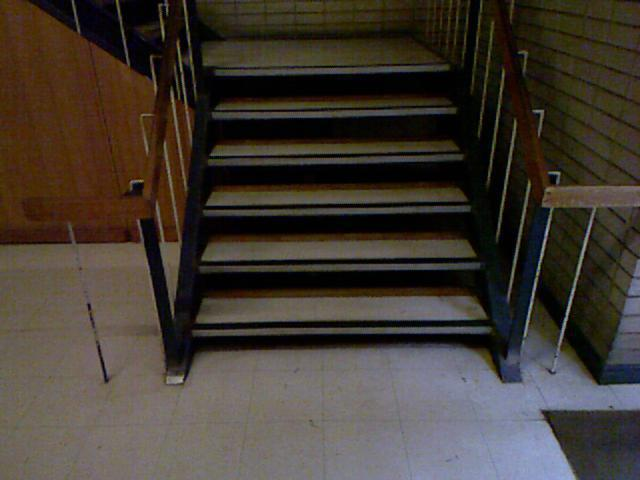Escaleras: (182, 81, 527, 363), (0, 0, 203, 132)
